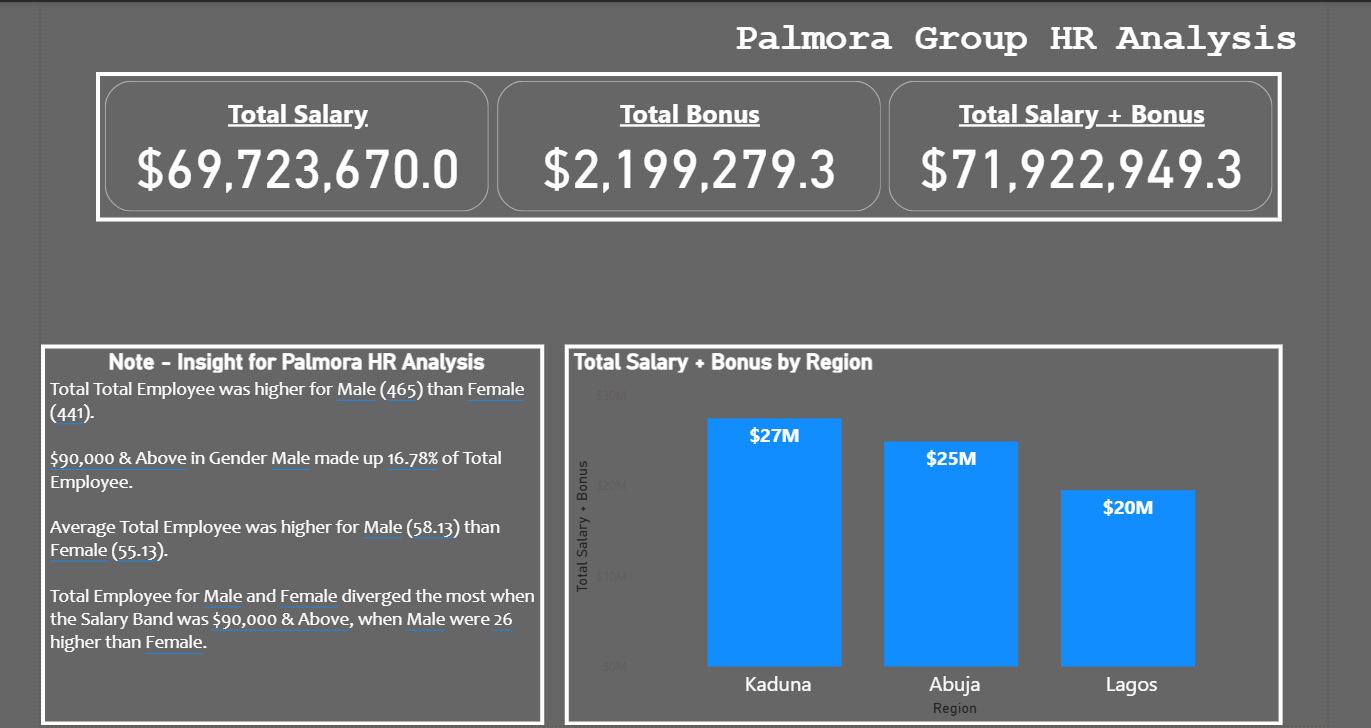

Layout of this report page (visuals, bound fields, positions):
{"tool":"powerbi","page":{"name":"Page 3","canvas":[1280,720],"ordinal":2},"visuals":[{"type":"textbox","title":"Note - Insight for Palmora HR Analysis","box":[0,340.5,500.6,379.4],"z":0},{"type":"cardVisual","fields":{"Data":["Palmoria Group emp-data.Total Salary","Palmoria Group emp-data.Total Bonus","Palmoria Group emp-data.Total Salary + Bonus"]},"box":[54.8,69.3,1180.2,148.6],"z":1000},{"type":"clusteredColumnChart","fields":{"Category":["Regions.Region"],"Y":["Palmoria Group emp-data.Total Salary + Bonus"]},"box":[520.8,340.5,714.2,379.4],"z":2000},{"type":"textbox","box":[685.3,11.5,578.5,57.7],"z":3000}]}

Visuals, with their boxes in screenshot pixels (x1, y1, x2, y2):
"Note - Insight for Palmora HR Analysis" textbox: Rect(43, 340, 542, 718)
cardVisual - Palmoria Group emp-data.Total Salary x Palmoria Group emp-data.Total Bonus: Rect(98, 69, 1275, 217)
clusteredColumnChart - Regions.Region x Palmoria Group emp-data.Total Salary + Bonus: Rect(562, 340, 1275, 718)
textbox: Rect(726, 11, 1304, 69)
